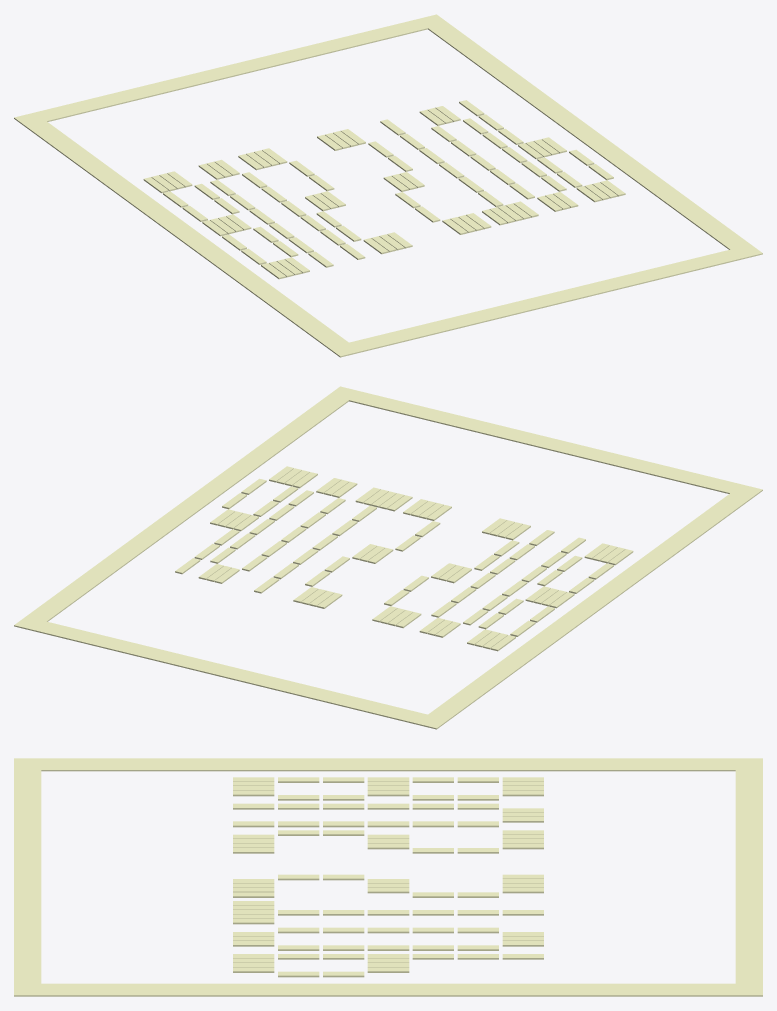
Rendered from marking_bus_stop_box_white.glb.
3 views of the same model, one above another, from view 1: azimuth 30°, elevation 25°; view 2: azimuth 150°, elevation 25°; view 3: azimuth 270°, elevation 25° (orthographic). The views are drawn at different scales.
Visible parts, largest first — view 1: bus_stop_box_left, bus_stop_box_right, bus_stop_box_bottom, bus_stop_box_top; view 2: bus_stop_box_left, bus_stop_box_right, bus_stop_box_top, bus_stop_box_bottom; view 3: bus_stop_box_left, bus_stop_box_right, bus_stop_box_top, bus_stop_box_bottom.
Boxes of the visible parts, x1,y1,x2,y2 form: bus_stop_box_left: (26,121,348,348); bus_stop_box_right: (428,23,750,249); bus_stop_box_bottom: (328,244,762,357); bus_stop_box_top: (14,14,448,127); bus_stop_box_left: (428,493,750,720); bus_stop_box_right: (26,395,348,621); bus_stop_box_top: (14,616,448,729); bus_stop_box_bottom: (328,386,762,499); bus_stop_box_left: (41,758,735,771); bus_stop_box_right: (41,983,735,996); bus_stop_box_top: (735,758,762,996); bus_stop_box_bottom: (14,758,41,996).
Size of the model in its own units: 1.84 by 0.006 by 2.46.
